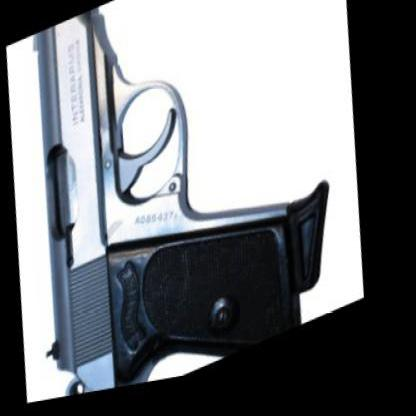pistol: (0, 0, 378, 407)
